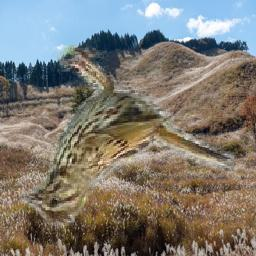Sparrow: (16, 46, 235, 229)
